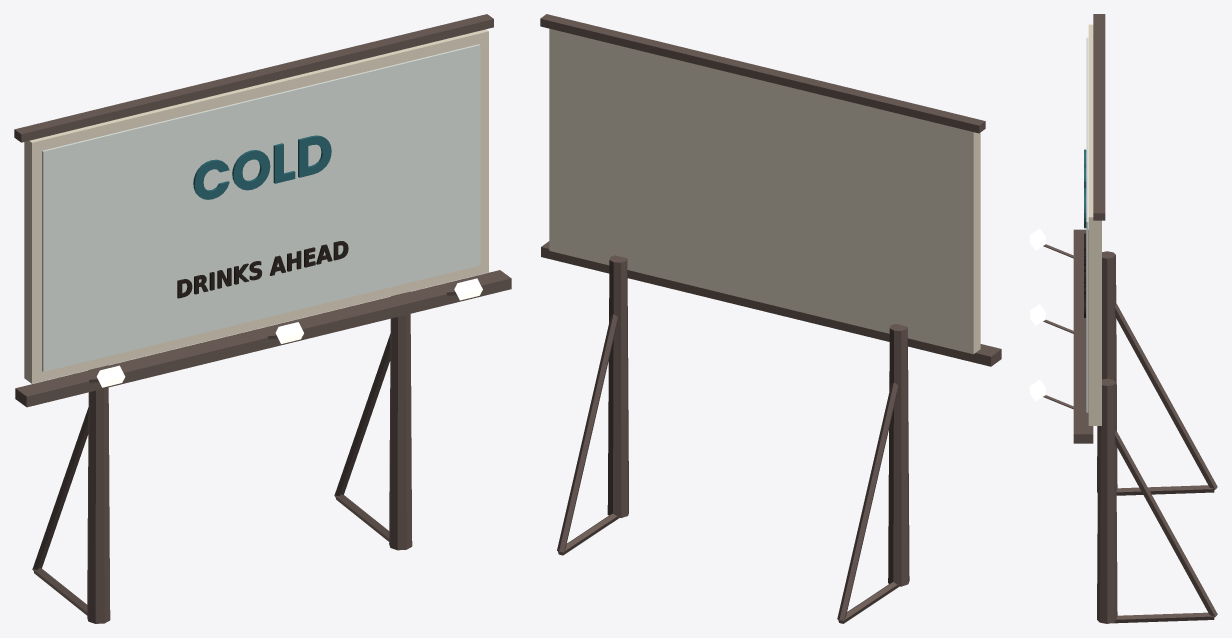
Rendered from billboard_1.glb.
The picture shows the model from 3 angles, left to right: view 1: azimuth 30°, elevation 25°; view 2: azimuth 150°, elevation 25°; view 3: azimuth 270°, elevation 25°; orthographic projection. The views are drawn at different scales.
Visible parts, largest first — view 1: billboard_1; view 2: billboard_1; view 3: billboard_1.
Part boxes in pixels (left/top/right/bottom): billboard_1: left=14, top=14, right=511, bottom=623; billboard_1: left=540, top=14, right=1001, bottom=623; billboard_1: left=1030, top=14, right=1217, bottom=623.
Bounding box in the file's own units: 12.2 × 12.38 × 4.73.
